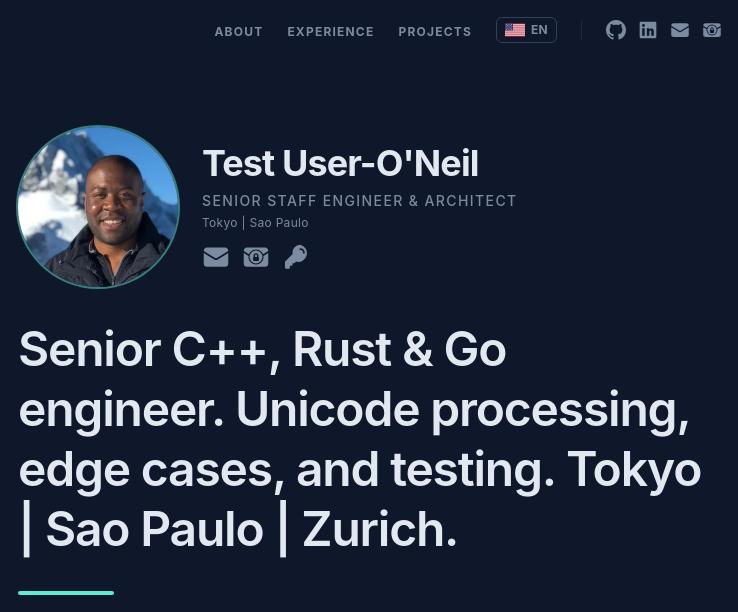
it: i18n Integration - Language Selector Flow › should switch to Estonian via dropdown
What coordinates should you click on to do the following:
click the button named "select language"
I would click on:
 (526, 30)
Its box is [496,17,557,43].
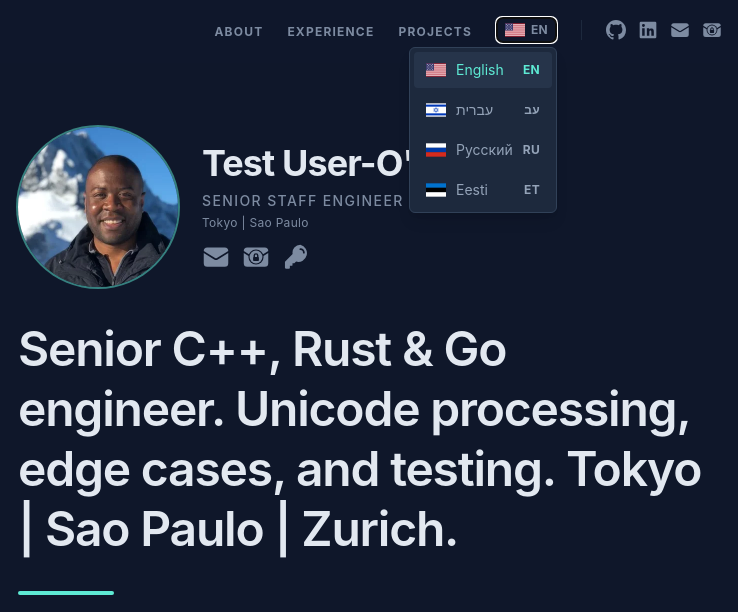
What coordinates should you click on to do the following:
click the link "Eesti ET"
I would click on:
 (483, 190)
Its box is [426,181,540,198].
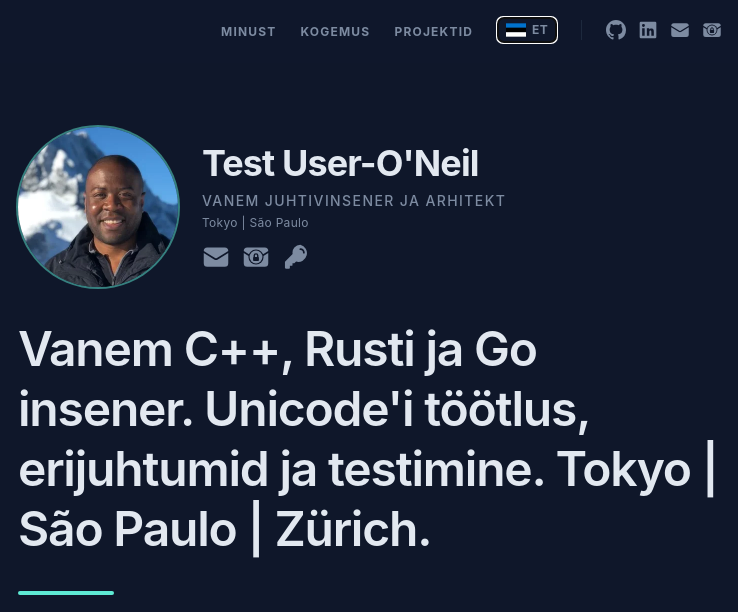
Now the link "Minust" is shown, box [221,24,276,39]
Now the link "Kogemus" is shown, box [300,24,370,39]
Now the link "Projektid" is shown, box [394,24,473,39]
